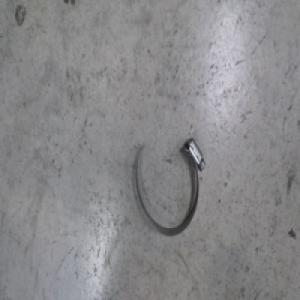AdjustableClamp: (134, 132, 209, 239)
